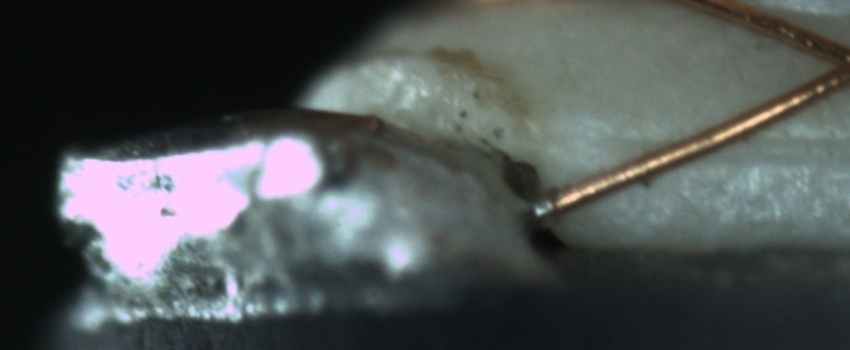CL: (803, 25, 850, 97)
DL: (610, 108, 846, 180)
